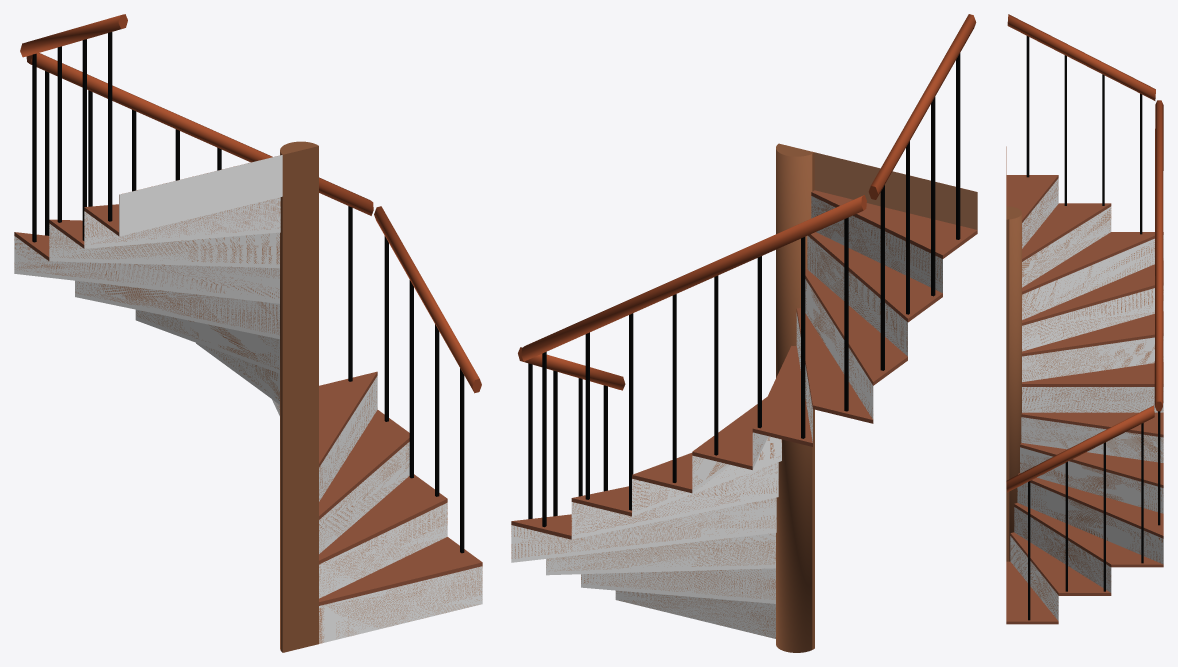
The model's file is stairs_180_square.obj.
3 views of the same model, side by side, from view 1: azimuth 30°, elevation 25°; view 2: azimuth 150°, elevation 25°; view 3: azimuth 270°, elevation 25° (orthographic). The views are drawn at different scales.
Parts seen in each view (by area): view 1: 97_97, 72_72, Cylinder, Cube.001_Cube.002, 1_1.003_1_1.006; view 2: 97_97, 72_72, Cylinder, Cube.001_Cube.002, 1_1.003_1_1.006; view 3: 97_97, 72_72, 1_1.003_1_1.006, Cylinder, Cube.001_Cube.002.
Part boxes in pixels (x1,y1,x2,y2): 97_97: [14, 155, 482, 643]; 72_72: [14, 204, 482, 605]; Cylinder: [280, 141, 318, 652]; Cube.001_Cube.002: [32, 32, 464, 553]; 1_1.003_1_1.006: [20, 14, 481, 393]; 97_97: [511, 152, 977, 638]; 72_72: [511, 190, 977, 603]; Cylinder: [776, 143, 814, 652]; Cube.001_Cube.002: [528, 53, 960, 527]; 1_1.003_1_1.006: [518, 14, 976, 390]; 97_97: [1006, 146, 1163, 620]; 72_72: [1006, 175, 1163, 624]; 1_1.003_1_1.006: [1006, 14, 1163, 492]; Cylinder: [1006, 206, 1021, 561]; Cube.001_Cube.002: [1026, 36, 1160, 620].
Bounding box in the file's own units: 200 × 356 × 100.
